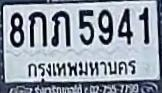1: (138, 6, 148, 44)
4: (117, 7, 132, 44)
5: (78, 9, 93, 44)
8: (9, 12, 23, 47)
9: (97, 8, 112, 44)
A01: (28, 12, 46, 46)
A32: (50, 10, 70, 46)
BKK: (25, 58, 136, 80)
